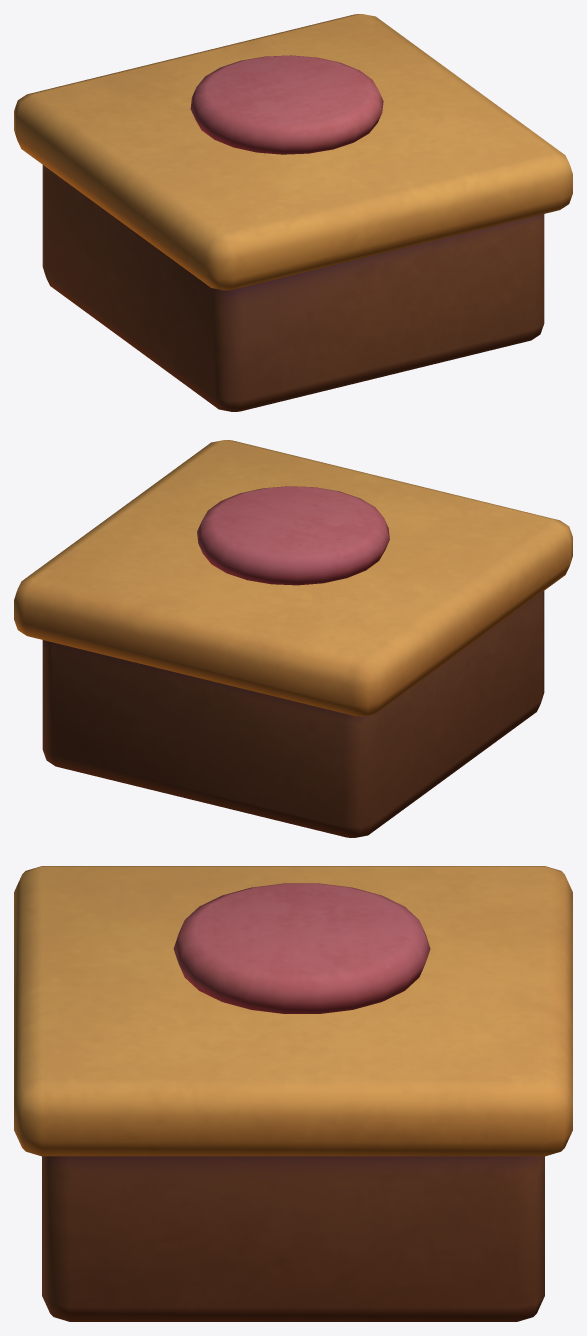
File: Meat.obj
The picture shows the model from 3 angles, top to bottom: view 1: azimuth 30°, elevation 25°; view 2: azimuth 150°, elevation 25°; view 3: azimuth 270°, elevation 25°; orthographic projection. The views are drawn at different scales.
Parts seen in each view (by area): view 1: ClearCounter.Base.005, Patty.Raw; view 2: ClearCounter.Base.005, Patty.Raw; view 3: ClearCounter.Base.005, Patty.Raw.
Boxes of the visible parts, box(x1,y1,x2,y2) form: ClearCounter.Base.005: box(14, 14, 572, 411); Patty.Raw: box(190, 55, 383, 154); ClearCounter.Base.005: box(14, 440, 572, 837); Patty.Raw: box(197, 486, 389, 585); ClearCounter.Base.005: box(14, 866, 572, 1321); Patty.Raw: box(173, 883, 430, 1013).
Size of the model in its own units: 1.33 by 0.7948 by 1.33.
Materials: 2 (2 with a texture image).
